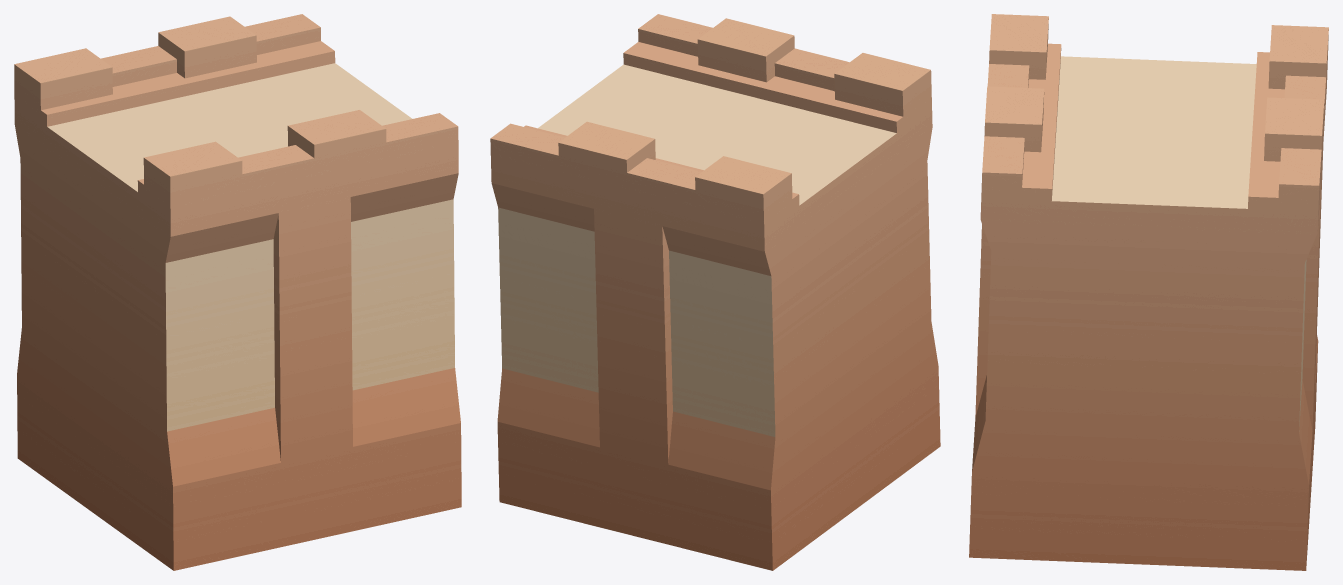
File: wall-pillar.037_lev3.glb
3 renders of one model, left to right at view 1: azimuth 30°, elevation 25°; view 2: azimuth 150°, elevation 25°; view 3: azimuth 270°, elevation 25°, orthographic. The views are drawn at different scales.
Parts seen in each view (by area): view 1: wall-pillar.037_lev3; view 2: wall-pillar.037_lev3; view 3: wall-pillar.037_lev3.
Boxes of the visible parts, x1,y1,x2,y2 form: wall-pillar.037_lev3: (14,14,461,570); wall-pillar.037_lev3: (490,14,940,570); wall-pillar.037_lev3: (969,14,1328,570).
Bounding box in the file's own units: 6.16 × 8.01 × 6.34.
1 material, 1 textured.
